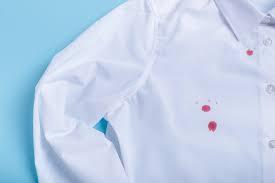blood: (208, 119, 217, 133), (246, 48, 254, 57), (202, 104, 210, 112)
